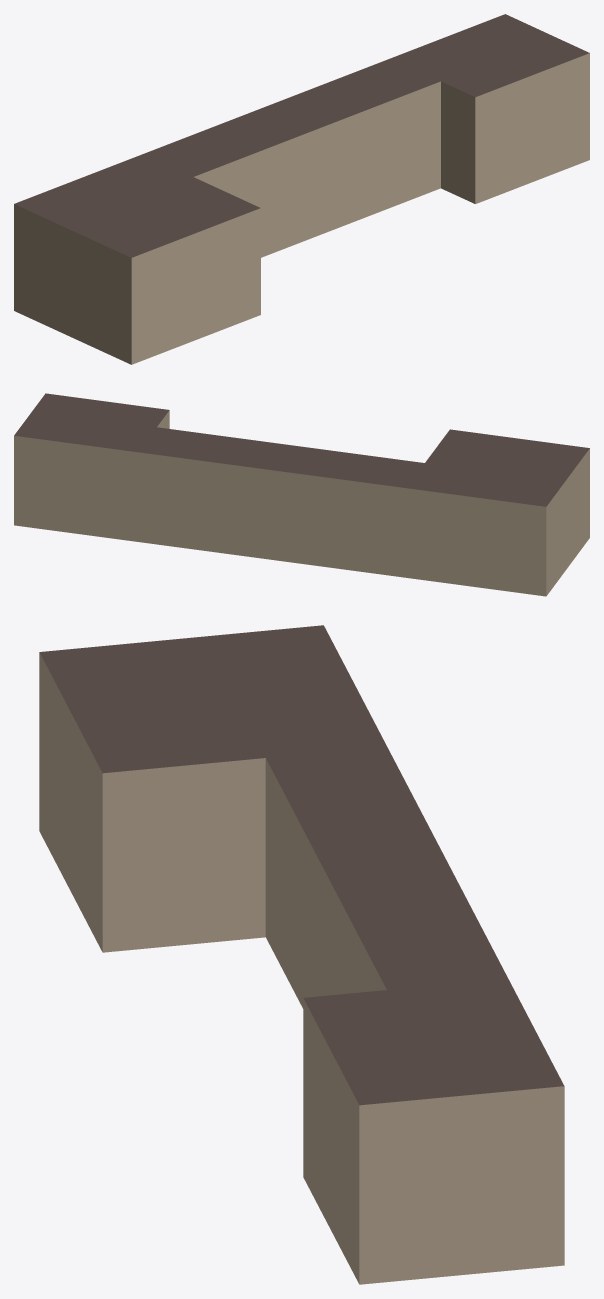
3 renders of one model, top to bottom at view 1: azimuth 30°, elevation 25°; view 2: azimuth 150°, elevation 25°; view 3: azimuth 270°, elevation 25°, orthographic. The views are drawn at different scales.
Visible parts, largest first — view 1: HP-w858824286; view 2: HP-w858824286; view 3: HP-w858824286.
Part boxes in pixels (x1,y1,x2,y2): HP-w858824286: (14, 14, 589, 364); HP-w858824286: (14, 393, 589, 596); HP-w858824286: (39, 625, 564, 1284).
Bounding box in the file's own units: 51.65 × 9 × 23.87.
